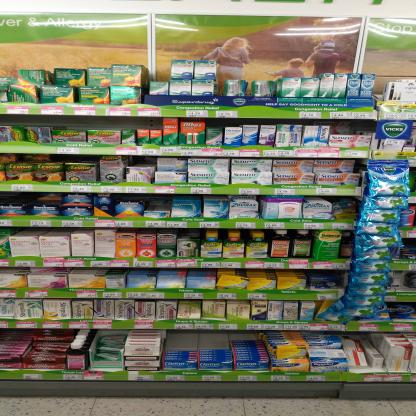Void: (64, 118, 158, 130), (336, 120, 371, 135), (145, 197, 169, 211), (130, 156, 155, 167)
